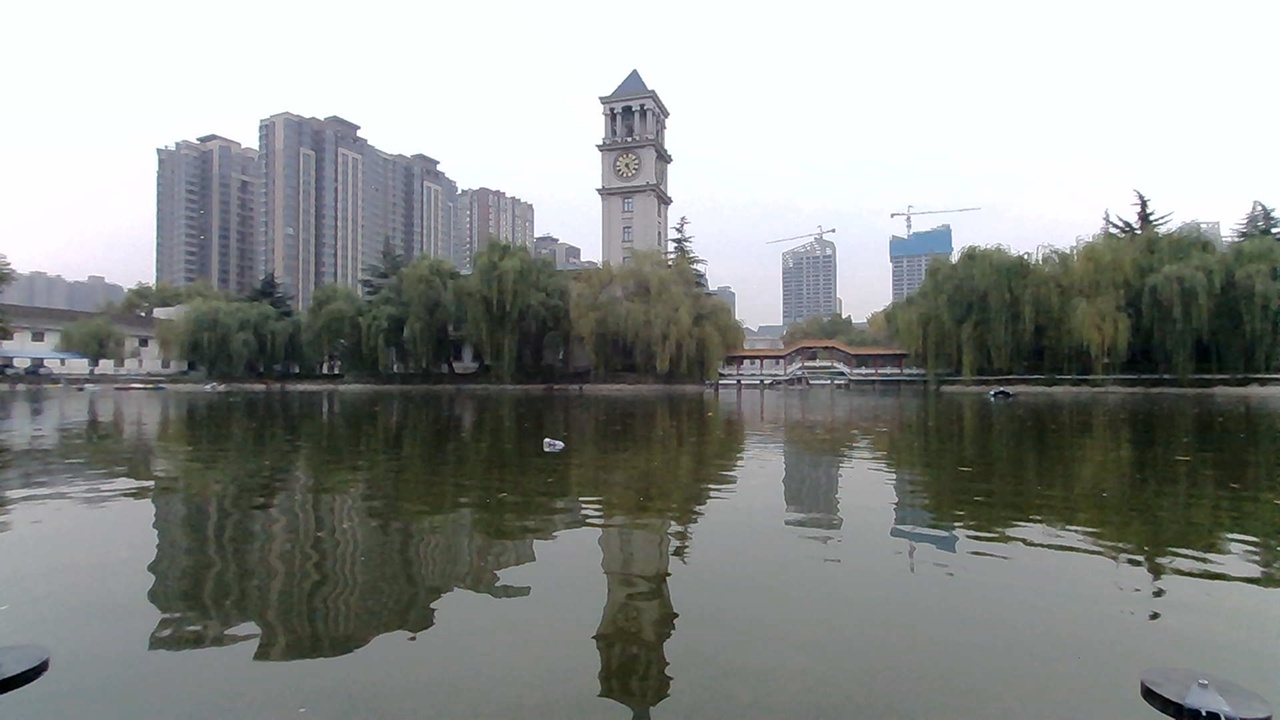bottle: (527, 425, 579, 463)
